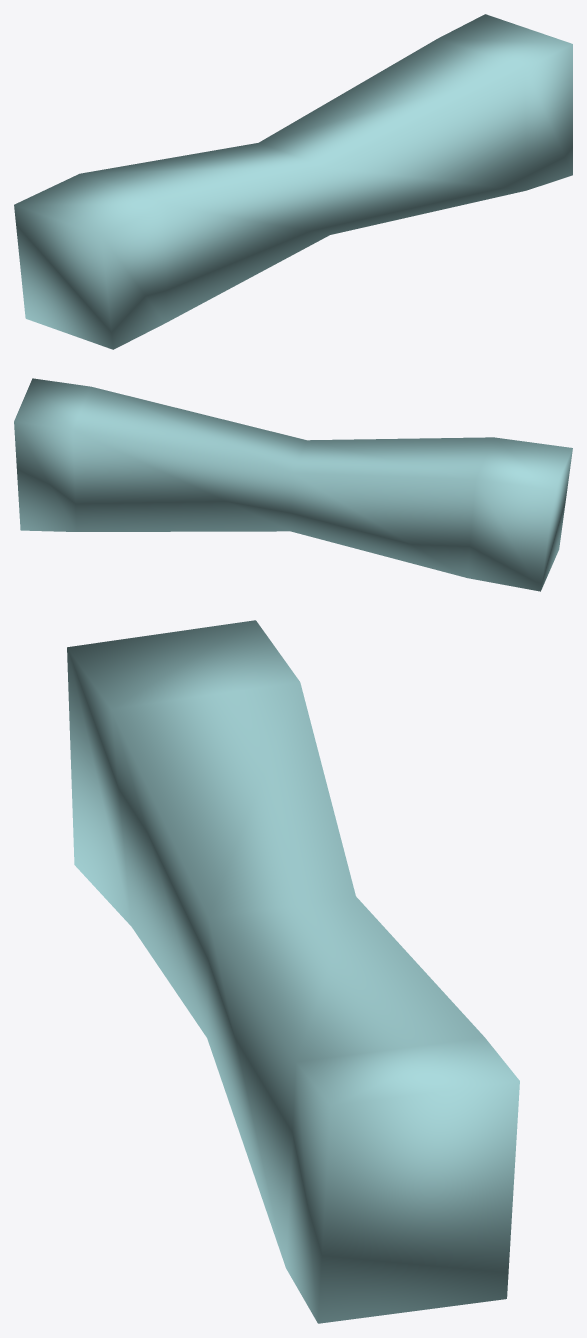
File: Skelly_palm.04.L.fbx
The picture shows the model from 3 angles, top to bottom: view 1: azimuth 30°, elevation 25°; view 2: azimuth 150°, elevation 25°; view 3: azimuth 270°, elevation 25°; orthographic projection. The views are drawn at different scales.
Parts seen in each view (by area): view 1: Skelly_palm.04.L; view 2: Skelly_palm.04.L; view 3: Skelly_palm.04.L.
Boxes of the visible parts, bbox=[...] form: Skelly_palm.04.L: bbox=[14, 14, 572, 349]; Skelly_palm.04.L: bbox=[14, 378, 572, 591]; Skelly_palm.04.L: bbox=[67, 620, 519, 1323].
Bounding box in the file's own units: 7.38 × 1.57 × 2.88.
